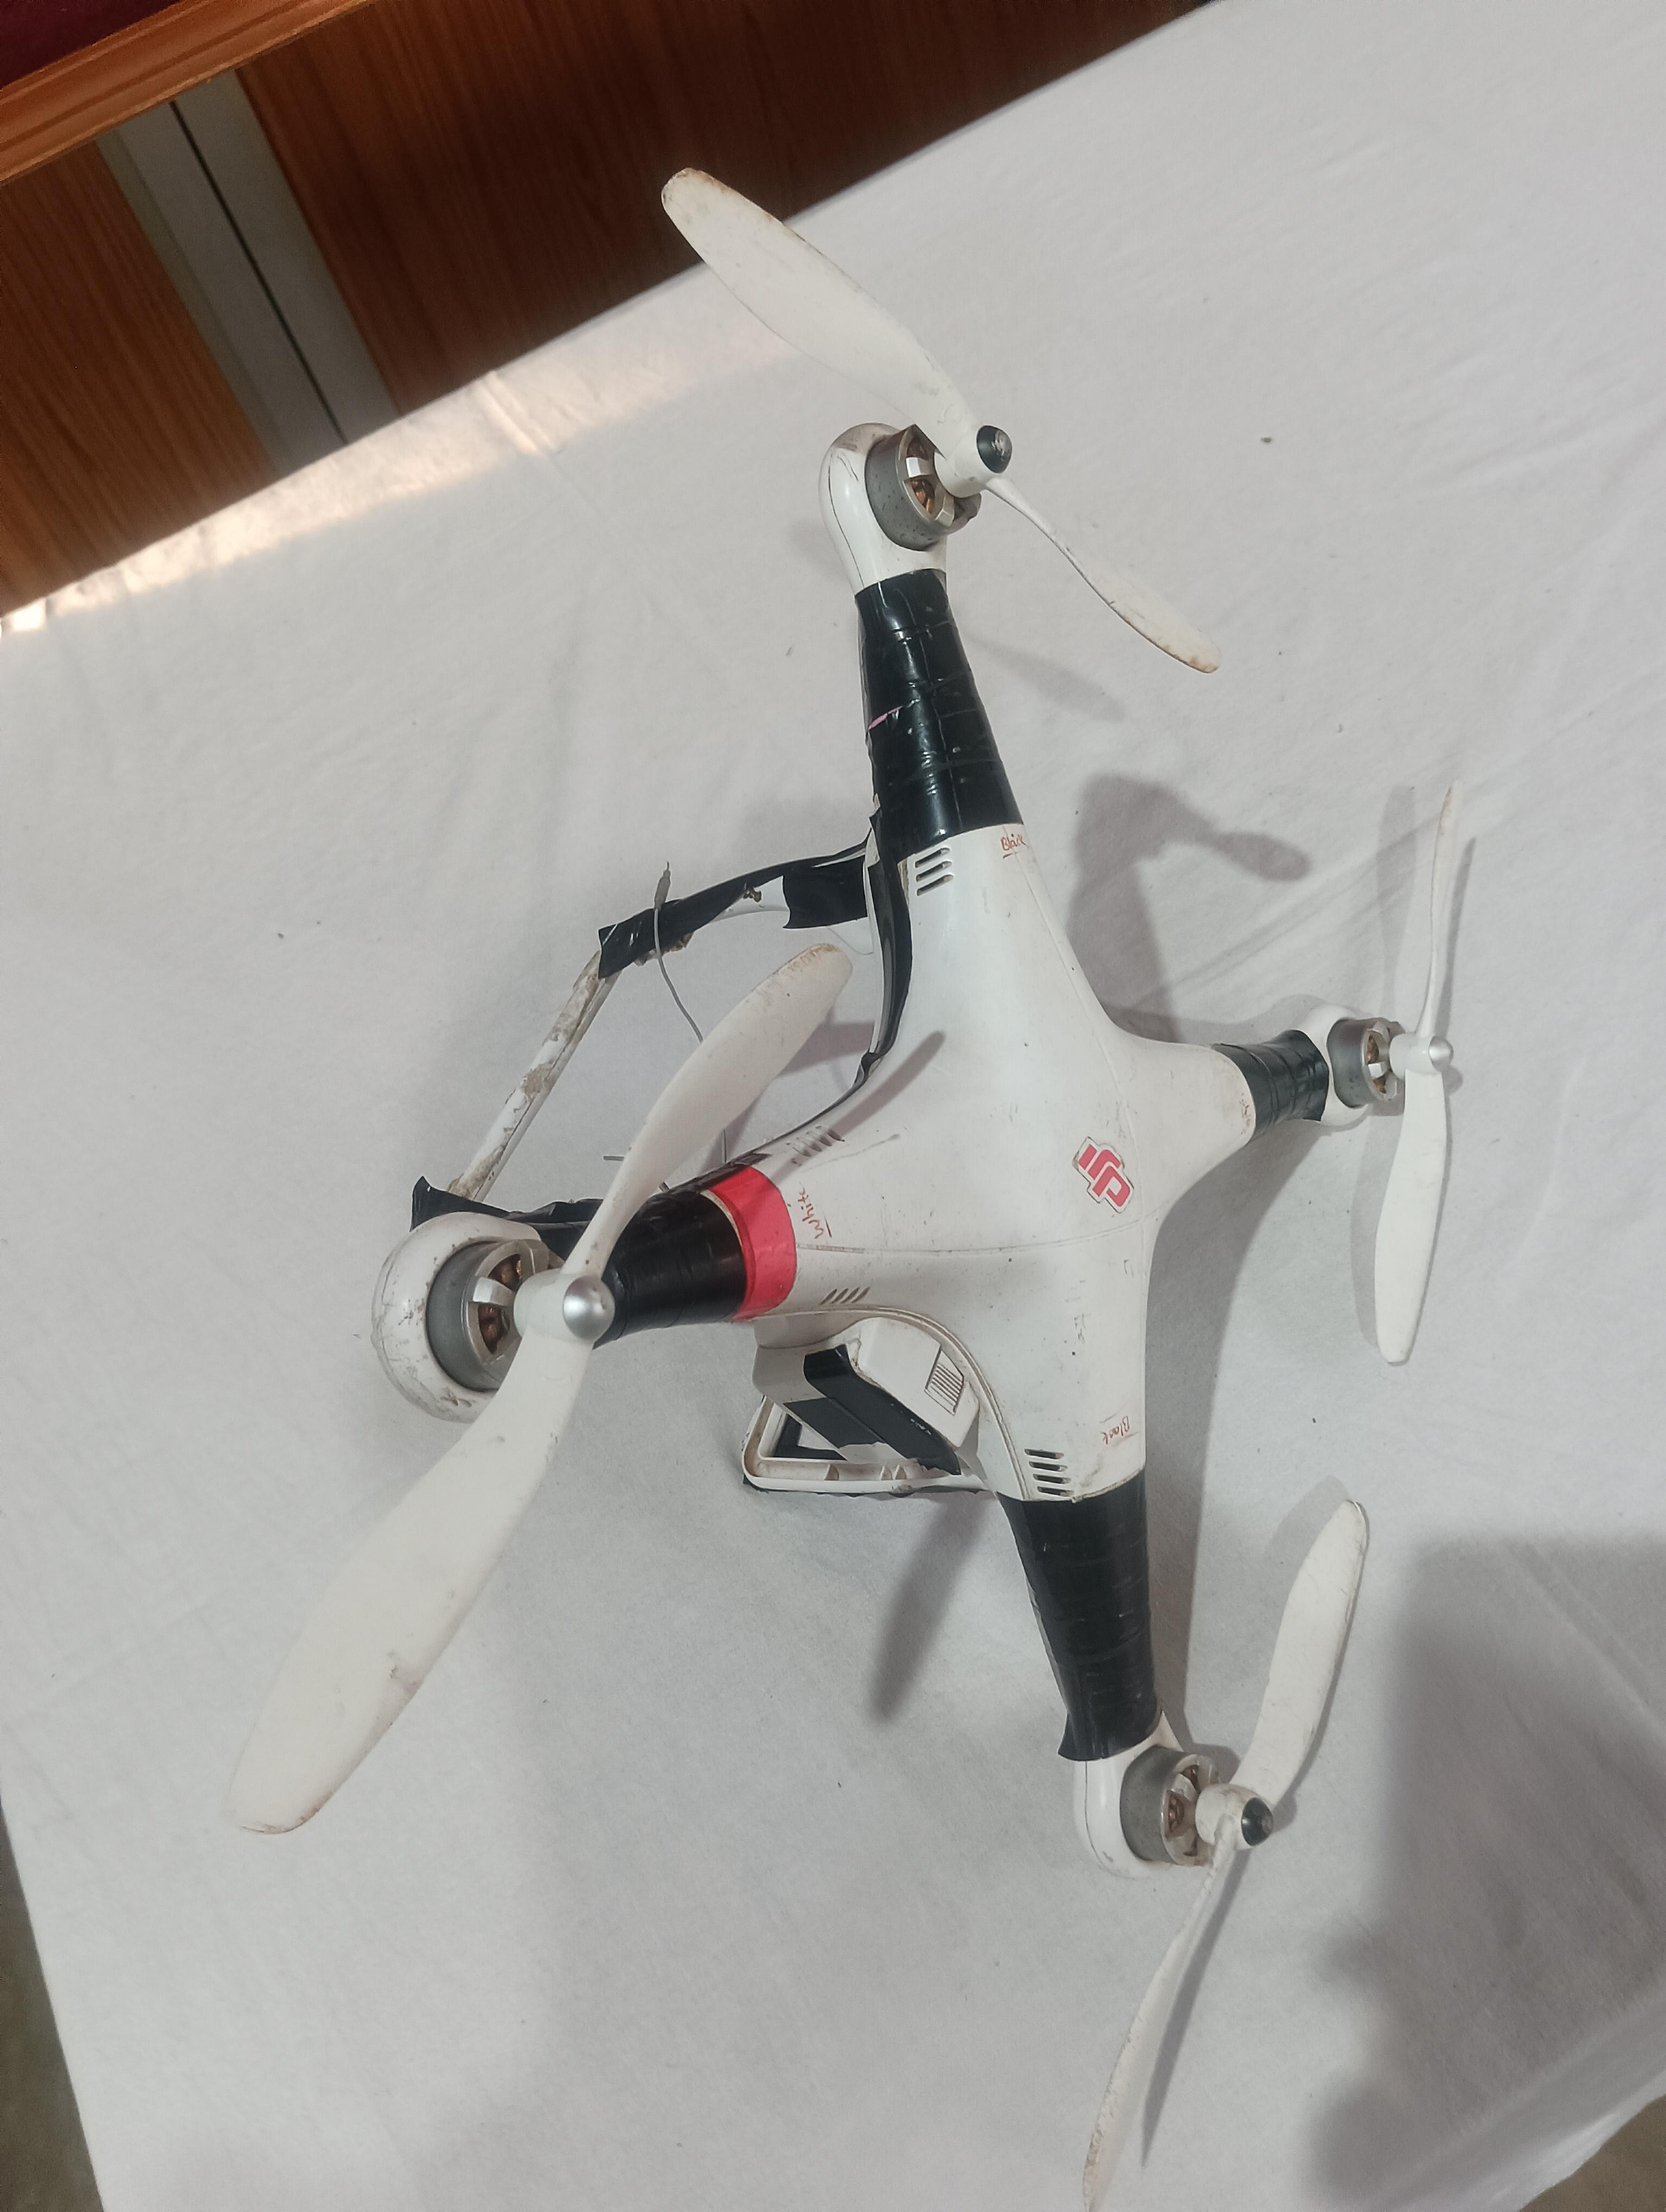drone: (315, 229, 1558, 1985)
